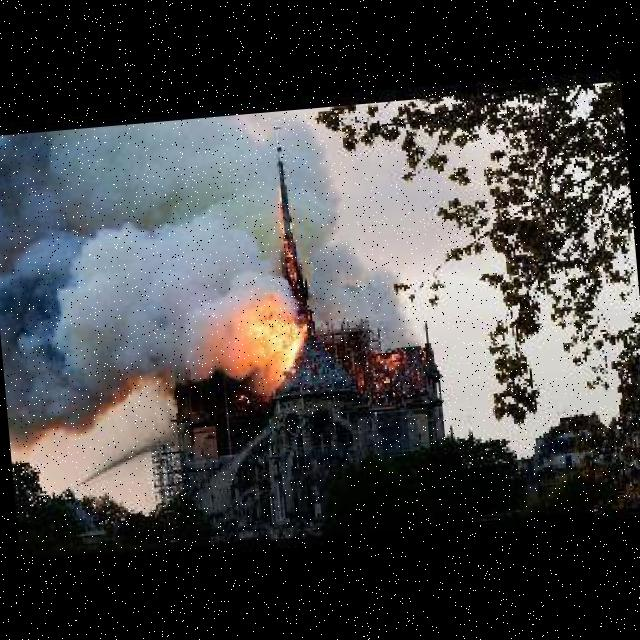fire: (205, 280, 298, 400)
